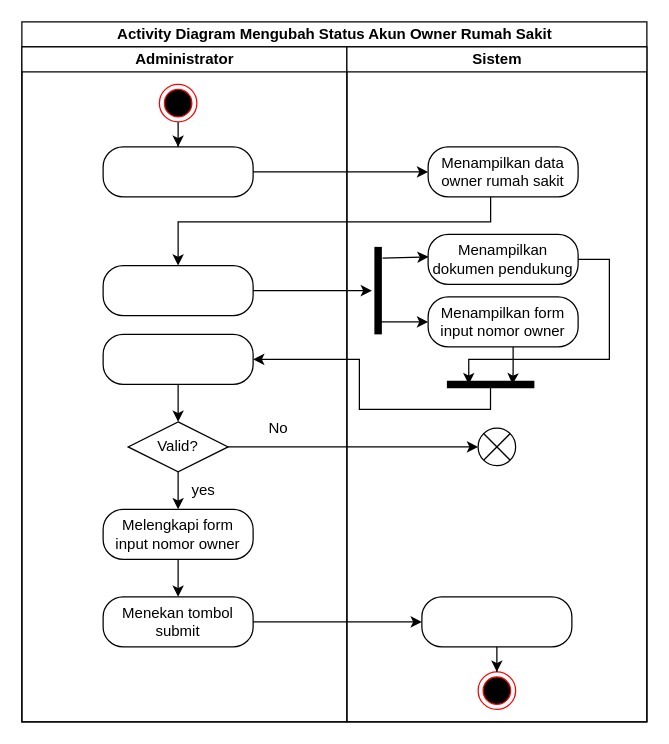
The diagram is 669 pixels wide and 744 high, and some of its shapes have lost their labels. The centre of each missing label's shape, as x and y in pixels:
Melakukan validasi data: (x=177, y=358)
Memilih menu owner rumah sakit: (x=177, y=171)
Menekan tombol aktifkan akun: (x=177, y=290)
Menyimpan data owner rumah sakit: (x=496, y=621)
